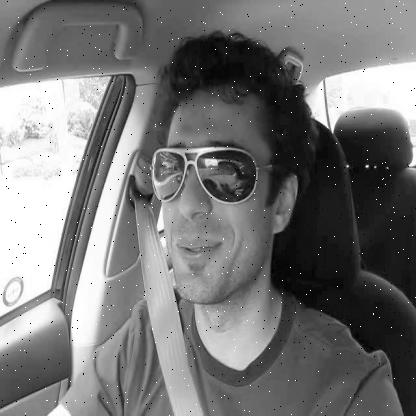seatbelt: (148, 27, 310, 416)
